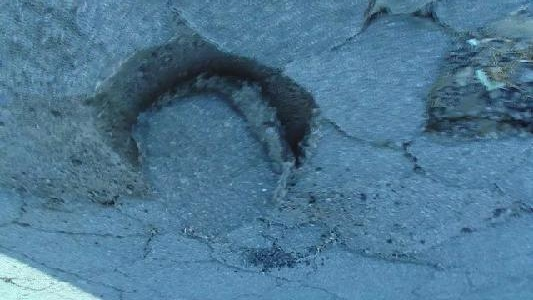pothole: (84, 29, 322, 189), (417, 23, 533, 142)
